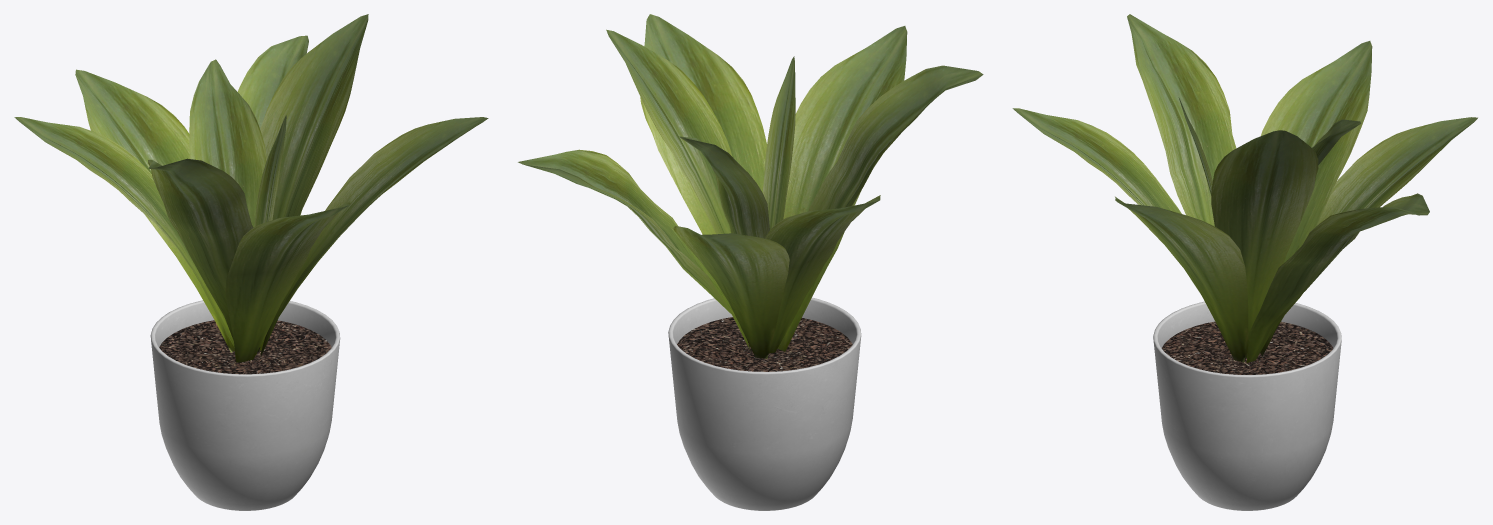
Rendered from shelf_plant1.fbx.
3 renders of one model, left to right at view 1: azimuth 30°, elevation 25°; view 2: azimuth 150°, elevation 25°; view 3: azimuth 270°, elevation 25°, orthographic. The views are drawn at different scales.
Parts seen in each view (by area): view 1: shelf_plant; view 2: shelf_plant; view 3: shelf_plant.
Boxes of the visible parts, left/top/right/bottom form: shelf_plant: left=14, top=14, right=488, bottom=510; shelf_plant: left=518, top=14, right=983, bottom=510; shelf_plant: left=1012, top=14, right=1477, bottom=510.
Size of the model in its own units: 28.38 by 33.48 by 33.11.
